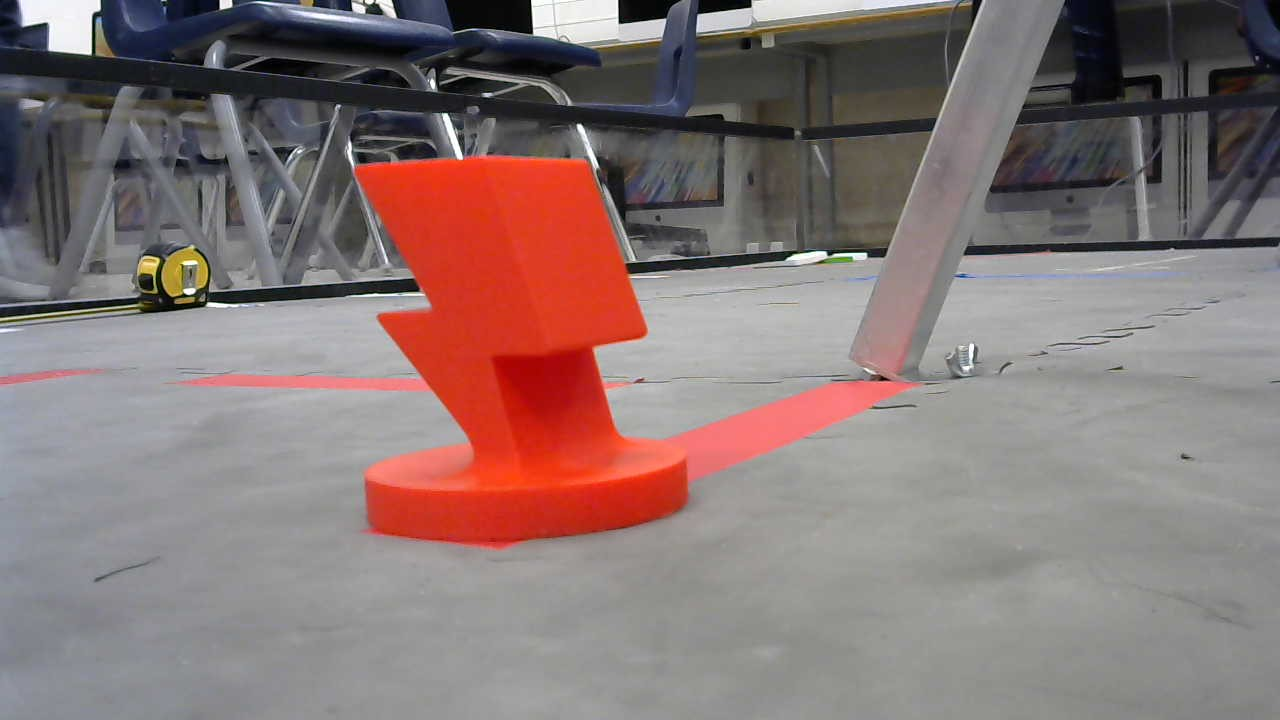redobject: (350, 150, 695, 550)
